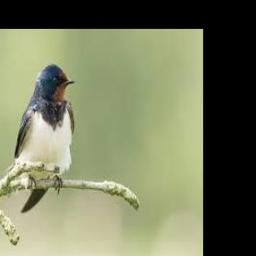Swallow: (15, 64, 76, 213)
